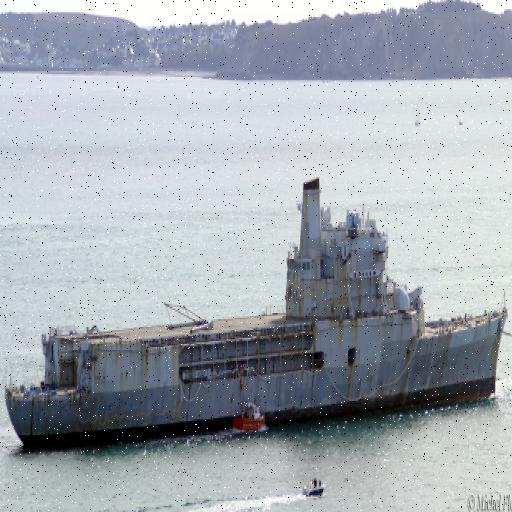Portanaves: (2, 172, 511, 458)
